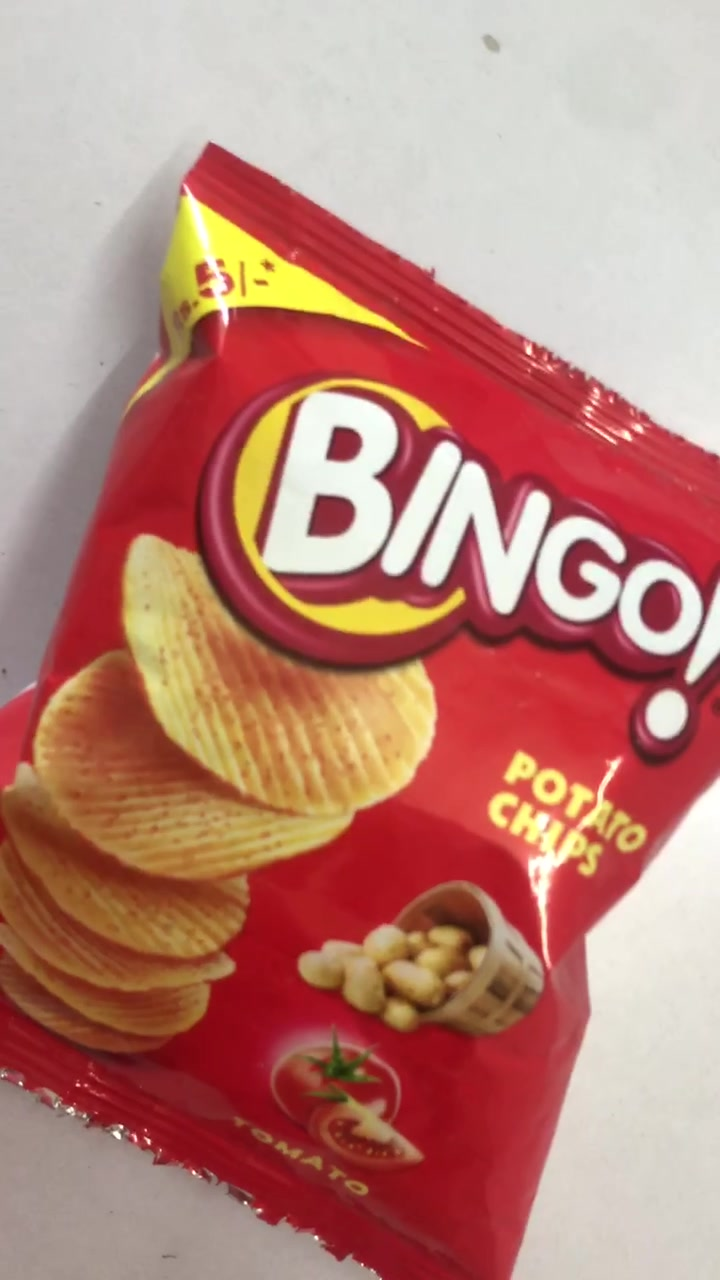Bingo: (1, 171, 717, 1256)
